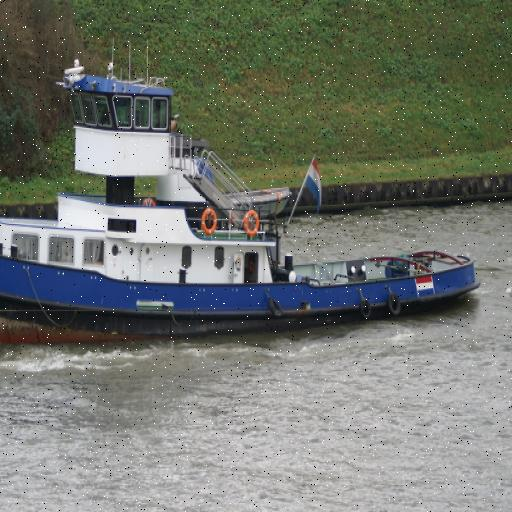tugboat: (1, 52, 487, 356)
